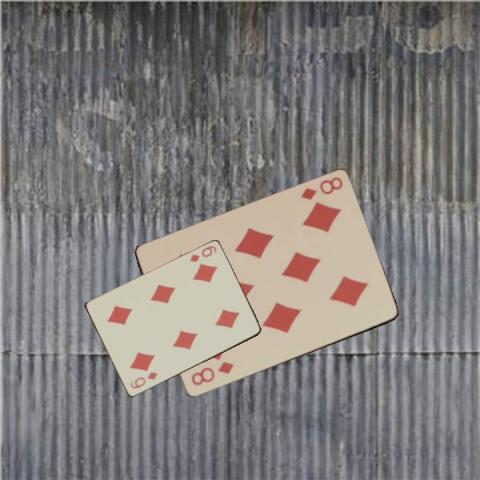6d: (127, 369, 159, 391), (187, 243, 218, 264)
8d: (188, 359, 235, 387), (297, 174, 344, 202)
